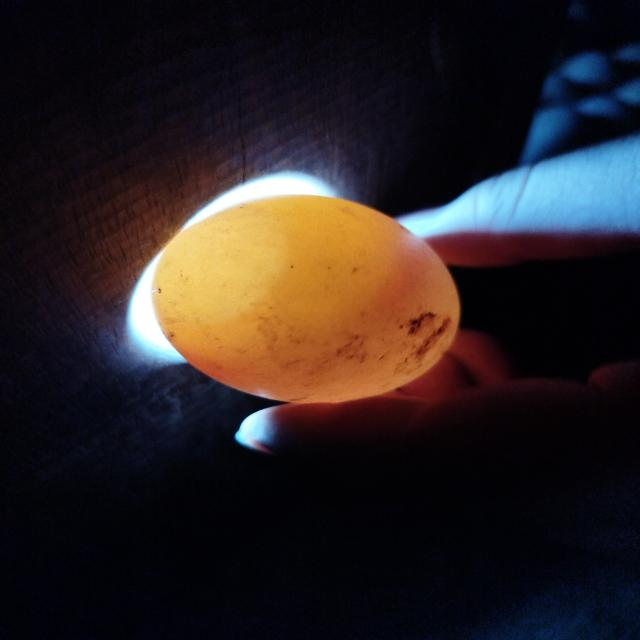Camara de Ar: (151, 208, 283, 322)
